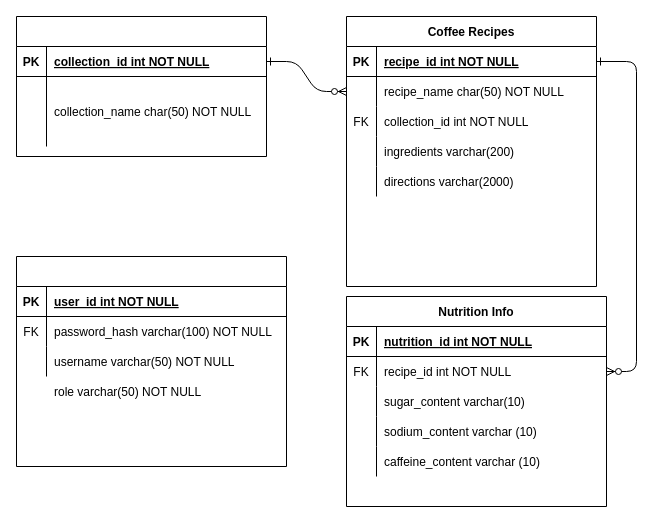
Image size: 653x523. Some labels were removed from this diagram. The box of each missing label's shape, as (x1, y1, x2, y2) in pixels:
Collections: (16, 16, 266, 156)
Users: (16, 256, 286, 466)
